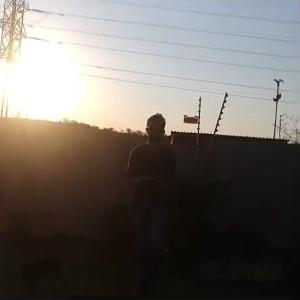follow: (121, 107, 182, 298)
